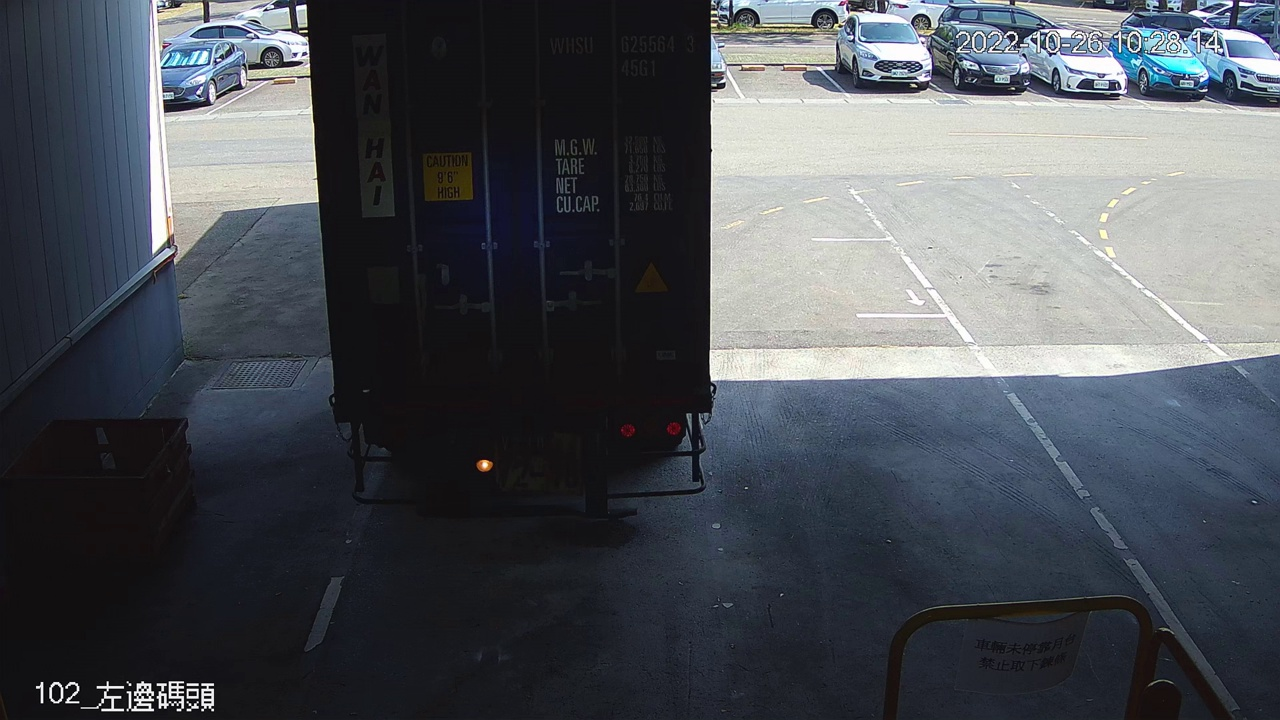container: (544, 24, 701, 82)
